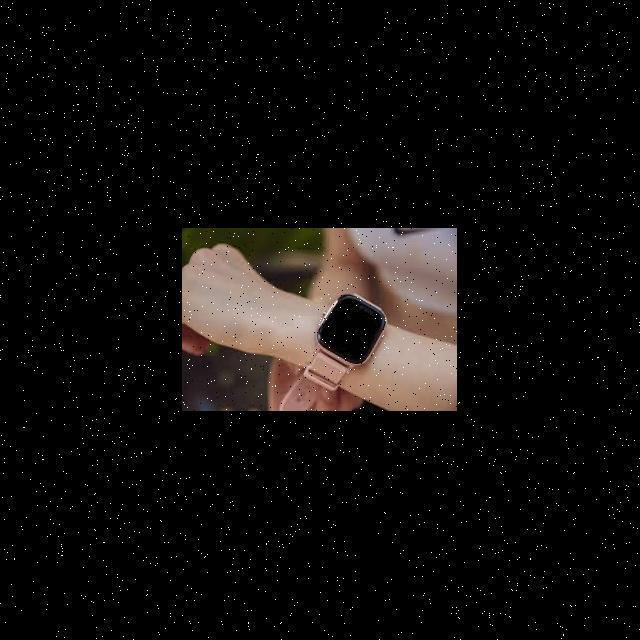watch: (292, 272, 395, 393)
